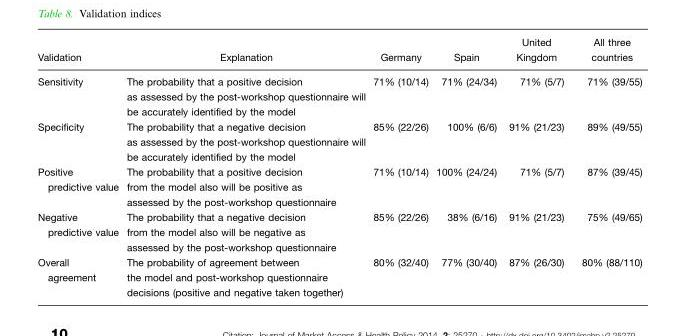table: (36, 36, 641, 297)
table column: (122, 36, 368, 297), (36, 36, 122, 297), (431, 36, 502, 297), (502, 36, 572, 297), (572, 36, 641, 297), (368, 36, 431, 297)
table column header: (36, 36, 641, 69)
table row: (36, 69, 641, 119), (36, 119, 641, 164), (36, 164, 641, 209), (36, 209, 641, 254), (36, 254, 641, 297), (36, 36, 641, 69)
